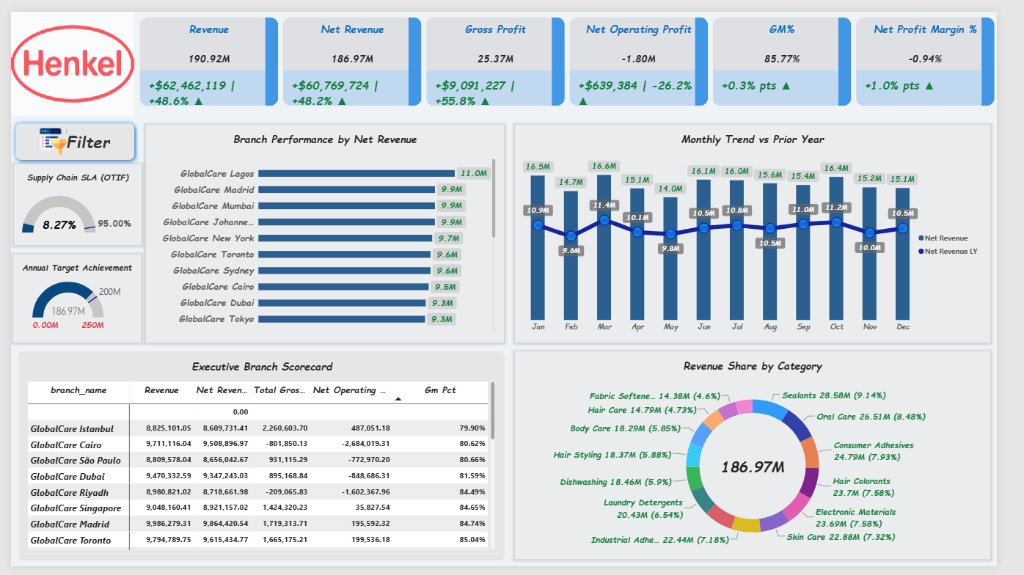

This screenshot's page, from the dashboard's own definition file:
{"tool":"powerbi","page":{"name":"Overview","canvas":[1920,1080],"ordinal":0},"visuals":[{"type":"image","box":[0,0,239.7,202.7],"z":0},{"type":"cardVisual","fields":{"Data":["_Measures.Total Revenue","Commercial & Sales.Net Revenue","Commercial & Sales.Total Gross Profit","Commercial & Sales.Net Operating Profit","Commercial & Sales.Gm Pct","Commercial & Sales.Net Profit Margin %"]},"box":[249.3,9.3,1670.7,174.7],"z":1000},{"type":"actionButton","title":"Filter","box":[0,208.2,249.2,89],"z":2000},{"type":"lineClusteredColumnComboChart","title":"Monthly Trend vs Prior Year","fields":{"Category":["Dim-Date.Month_Short"],"Y":["Commercial & Sales.Net Revenue"],"Y2":["Commercial & Sales.Net Revenue LY"]},"box":[981.4,220,925.7,424.3],"z":3000},{"type":"clusteredBarChart","title":"Branch Performance by Net Revenue","fields":{"Category":["Fact_Branches.branch_name"],"Y":["Commercial & Sales.Net Revenue"]},"box":[262.9,220,697.1,424.3],"z":4000},{"type":"donutChart","title":"Revenue Share by Category","fields":{"Category":["Fact_Products.category"],"Y":["Commercial & Sales.Net Revenue"]},"box":[981.4,661.4,925.7,404.3],"z":6000},{"type":"pivotTable","title":"Executive Branch Scorecard","fields":{"Rows":["Fact_Branches.branch_name"],"Values":["Commercial & Sales.Total Revenue","Commercial & Sales.Net Revenue","Commercial & Sales.Total Gross Profit","Commercial & Sales.Net Operating Profit","Commercial & Sales.Gm Pct"]},"box":[15.7,661.4,944.3,404.3],"z":7000},{"type":"gauge","title":"Annual Target Achievement","fields":{"MaxValue":["Commercial & Sales.Revenue Maximum"],"TargetValue":["Commercial & Sales.Revenue Target"],"Y":["Commercial & Sales.Net Revenue"]},"box":[4.3,472.9,248.6,171.4],"z":8000},{"type":"gauge","title":"Supply Chain SLA (OTIF)","fields":{"TargetValue":["Commercial & Sales.OTIF Target"],"Y":["Commercial & Sales.OTIF %"]},"box":[5.7,297.1,248.6,157.1],"z":9000},{"type":"group","id":"g1","title":"Menu","box":[0,0,249.2,1079.1],"z":10000}]}

Visuals, with their boxes in screenshot pixels (x1, y1, x2, y2), scaled from the page's 1920x1080 canvas onto the 1024x575 screenshot:
image: (x1=0, y1=0, x2=128, y2=108)
cardVisual - _Measures.Total Revenue x Commercial & Sales.Net Revenue: (x1=133, y1=5, x2=1023, y2=98)
"Filter" actionButton: (x1=0, y1=111, x2=133, y2=158)
"Monthly Trend vs Prior Year" lineClusteredColumnComboChart: (x1=523, y1=117, x2=1017, y2=343)
"Branch Performance by Net Revenue" clusteredBarChart: (x1=140, y1=117, x2=512, y2=343)
"Revenue Share by Category" donutChart: (x1=523, y1=352, x2=1017, y2=567)
"Executive Branch Scorecard" pivotTable: (x1=8, y1=352, x2=512, y2=567)
"Annual Target Achievement" gauge: (x1=2, y1=252, x2=135, y2=343)
"Supply Chain SLA (OTIF)" gauge: (x1=3, y1=158, x2=136, y2=242)
"Menu" group: (x1=0, y1=0, x2=133, y2=574)
